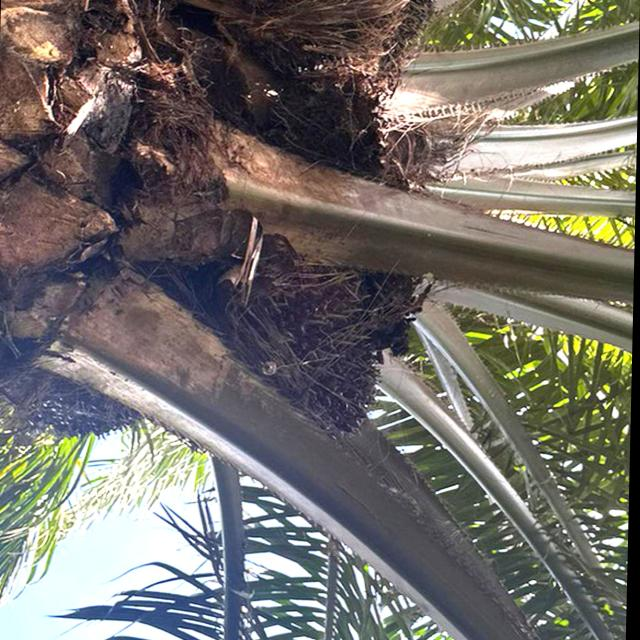ripe: (220, 252, 407, 440)
